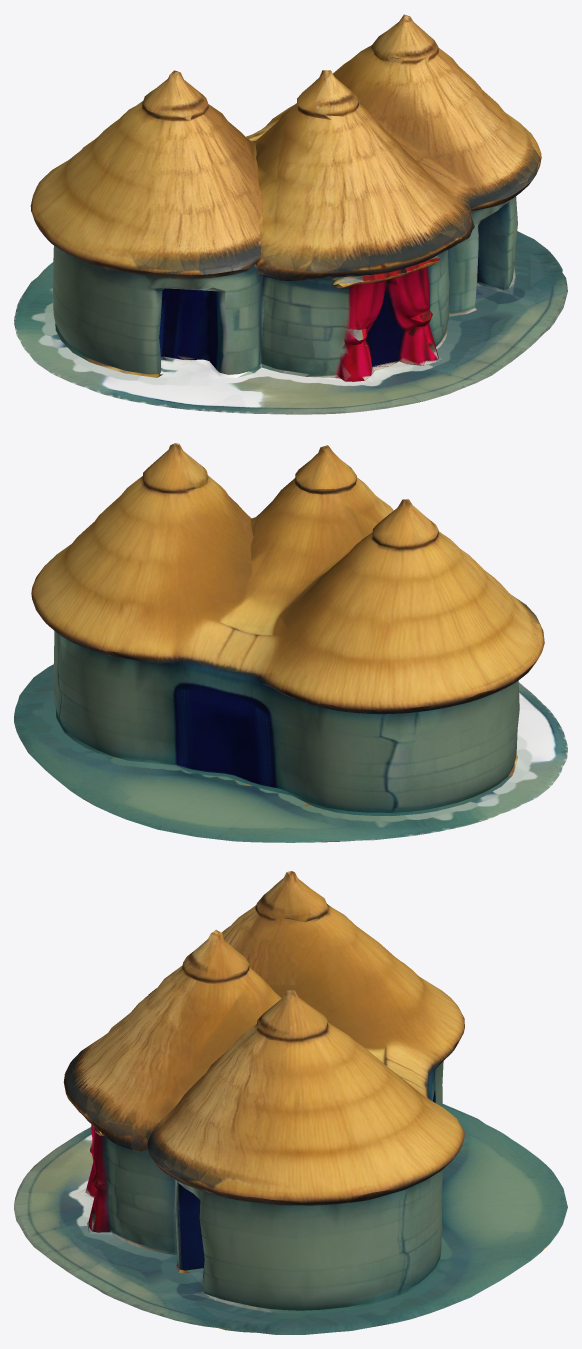
The model's file is tawantinsuyu_qollqa.glb.
The picture shows the model from 3 angles, top to bottom: view 1: azimuth 30°, elevation 25°; view 2: azimuth 150°, elevation 25°; view 3: azimuth 270°, elevation 25°; orthographic projection. The views are drawn at different scales.
Visible parts, largest first — view 1: geometry_0; view 2: geometry_0; view 3: geometry_0.
Boxes of the visible parts, x1,y1,x2,y2 form: geometry_0: (14,14,567,414); geometry_0: (14,443,567,842); geometry_0: (14,871,567,1334).
Size of the model in its own units: 1.4 by 0.7003 by 1.28.
1 material, 1 textured.
